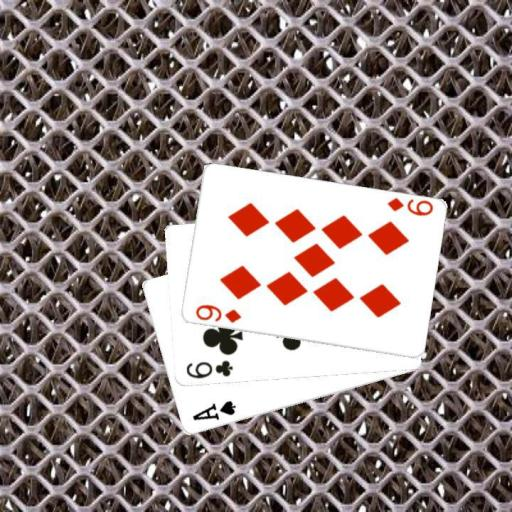6C: (182, 357, 234, 380)
9D: (192, 301, 243, 325), (384, 195, 434, 218)
AS: (189, 398, 237, 423)
